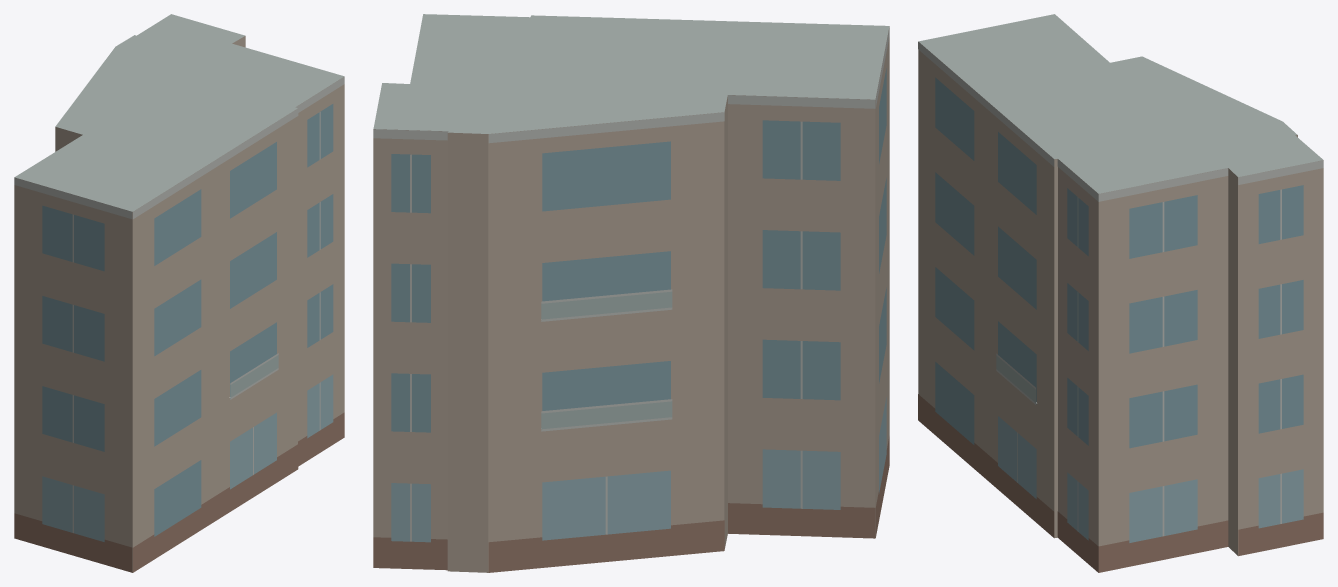
The model's file is survey-upis-32667588.glb.
3 renders of one model, left to right at view 1: azimuth 30°, elevation 25°; view 2: azimuth 150°, elevation 25°; view 3: azimuth 270°, elevation 25°, orthographic. The views are drawn at different scales.
Parts seen in each view (by area): view 1: survey-upis-32667588.tmp; view 2: survey-upis-32667588.tmp; view 3: survey-upis-32667588.tmp.
Part boxes in pixels (bbox=[...]): survey-upis-32667588.tmp: bbox=[14, 14, 344, 572]; survey-upis-32667588.tmp: bbox=[373, 14, 889, 572]; survey-upis-32667588.tmp: bbox=[918, 14, 1323, 572].
Bounding box in the file's own units: 11.82 × 11.6 × 11.26.
